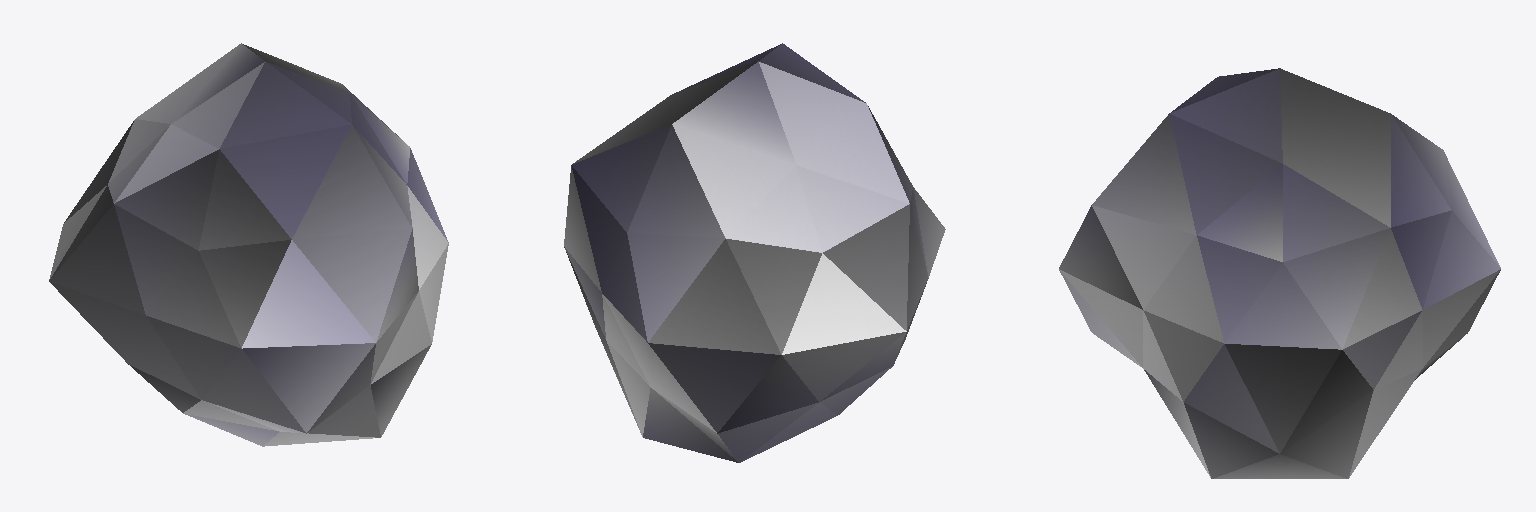
3 renders of one model, left to right at view 1: azimuth 30°, elevation 25°; view 2: azimuth 150°, elevation 25°; view 3: azimuth 270°, elevation 25°, orthographic.
Parts seen in each view (by area): view 1: Icosphere; view 2: Icosphere; view 3: Icosphere.
Boxes of the visible parts, x1,y1,x2,y2 form: Icosphere: [49, 43, 448, 446]; Icosphere: [564, 43, 945, 462]; Icosphere: [1059, 68, 1500, 478].
Bounding box in the file's own units: 2.11 × 2.24 × 2.34.
Materials: 1 (1 with a texture image).